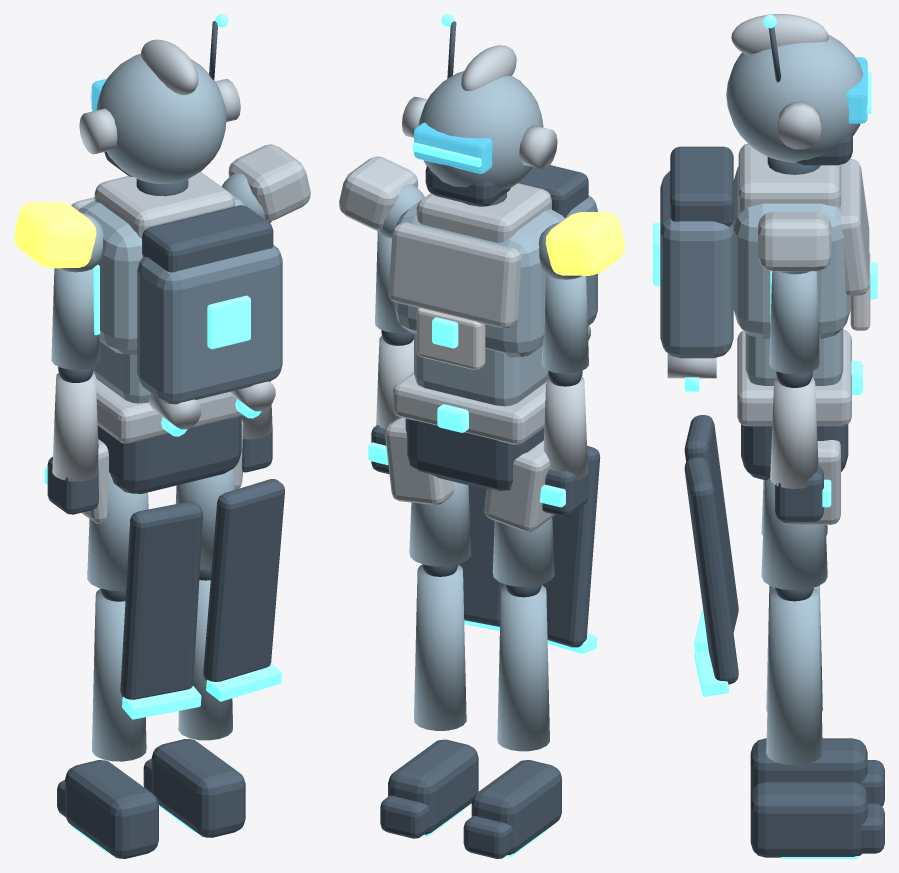
Rendered from skin_scout.glb.
3 renders of one model, left to right at view 1: azimuth 30°, elevation 25°; view 2: azimuth 150°, elevation 25°; view 3: azimuth 270°, elevation 25°, orthographic. The views are drawn at different scales.
Parts seen in each view (by area): view 1: Backpack, CoatL, CoatR, Helmet, Hips, RightBoot, LeftBoot, BackpackLid, LeftShin, Torso, Collar, YellowShoulder (+23 smaller); view 2: ChestPlate, Helmet, LeftShin, RightShin, CoatL, Hips, Torso, LeftBoot, RightBoot, Belt, Abdomen, Collar (+27 smaller); view 3: Helmet, Backpack, RightShin, RightBoot, Torso, CoatR, RightArm, BackpackLid, RightLeg, RightForearm, RightShoulderPad, Collar (+21 smaller).
Part boxes in pixels (x1=…): Backpack: x1=137, y1=245, x2=282, y2=404; CoatL: x1=120, y1=501, x2=202, y2=699; CoatR: x1=203, y1=479, x2=284, y2=681; Helmet: x1=96, y1=53, x2=226, y2=183; Hips: x1=97, y1=416, x2=241, y2=493; RightBoot: x1=151, y1=739, x2=245, y2=837; LeftBoot: x1=65, y1=760, x2=158, y2=858; BackpackLid: x1=142, y1=205, x2=273, y2=272; LeftShin: x1=92, y1=589, x2=146, y2=761; Torso: x1=78, y1=194, x2=248, y2=354; Collar: x1=94, y1=172, x2=234, y2=238; YellowShoulder: x1=14, y1=202, x2=96, y2=268; ChestPlate: x1=388, y1=222, x2=521, y2=328; Helmet: x1=418, y1=71, x2=543, y2=189; LeftShin: x1=497, y1=585, x2=549, y2=751; RightShin: x1=414, y1=564, x2=466, y2=730; CoatL: x1=542, y1=445, x2=600, y2=647; Hips: x1=405, y1=418, x2=544, y2=490; Torso: x1=394, y1=201, x2=565, y2=357; LeftBoot: x1=471, y1=760, x2=561, y2=855; RightBoot: x1=388, y1=739, x2=478, y2=834; Belt: x1=393, y1=372, x2=548, y2=444; Abdomen: x1=414, y1=333, x2=548, y2=406; Collar: x1=416, y1=183, x2=551, y2=242; Helmet: x1=726, y1=34, x2=863, y2=162; Backpack: x1=660, y1=171, x2=733, y2=358; RightShin: x1=766, y1=588, x2=822, y2=765; RightBoot: x1=750, y1=781, x2=867, y2=857; Torso: x1=733, y1=164, x2=850, y2=338; CoatR: x1=684, y1=457, x2=738, y2=684; RightArm: x1=769, y1=271, x2=819, y2=374; BackpackLid: x1=670, y1=146, x2=733, y2=226; RightLeg: x1=761, y1=478, x2=827, y2=590; RightForearm: x1=770, y1=377, x2=818, y2=488; RightShoulderPad: x1=758, y1=211, x2=831, y2=271; Collar: x1=738, y1=143, x2=840, y2=211.
Bounding box in the file's own units: 0.6578 × 1.89 × 0.475.
